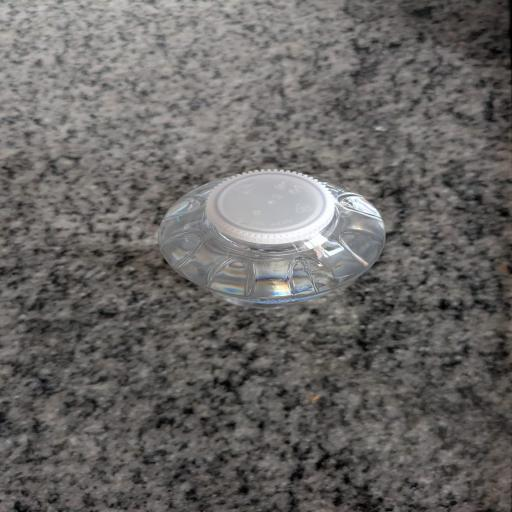waterbottle: (159, 170, 385, 306)
